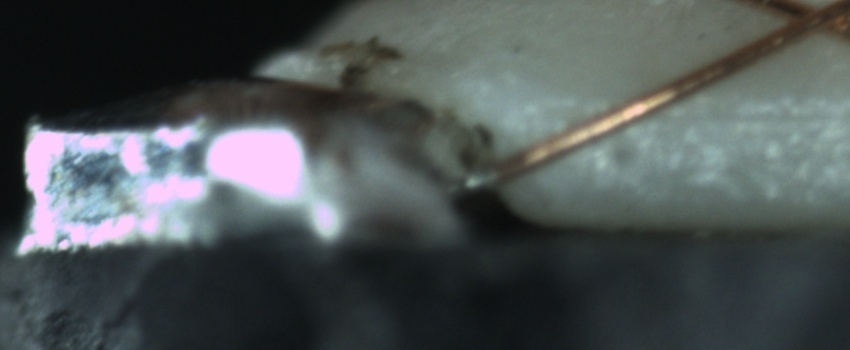CL: (763, 0, 845, 44)
DL: (561, 82, 847, 146)
TS: (459, 163, 498, 193)
